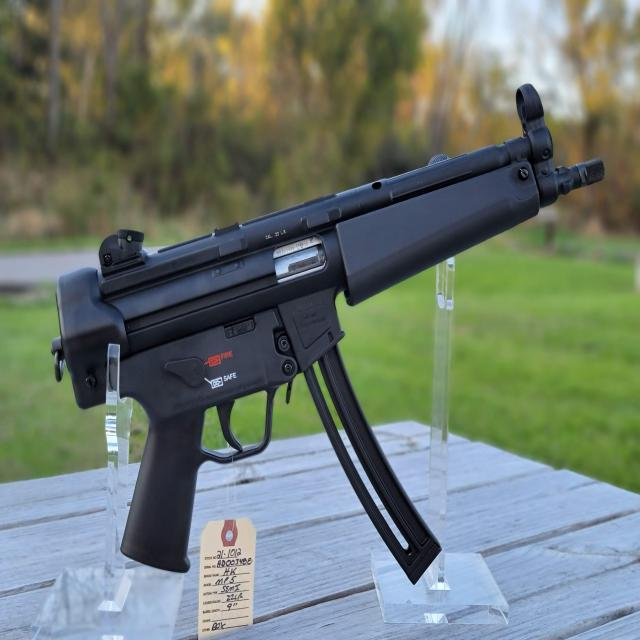SMG: (50, 85, 607, 620)
